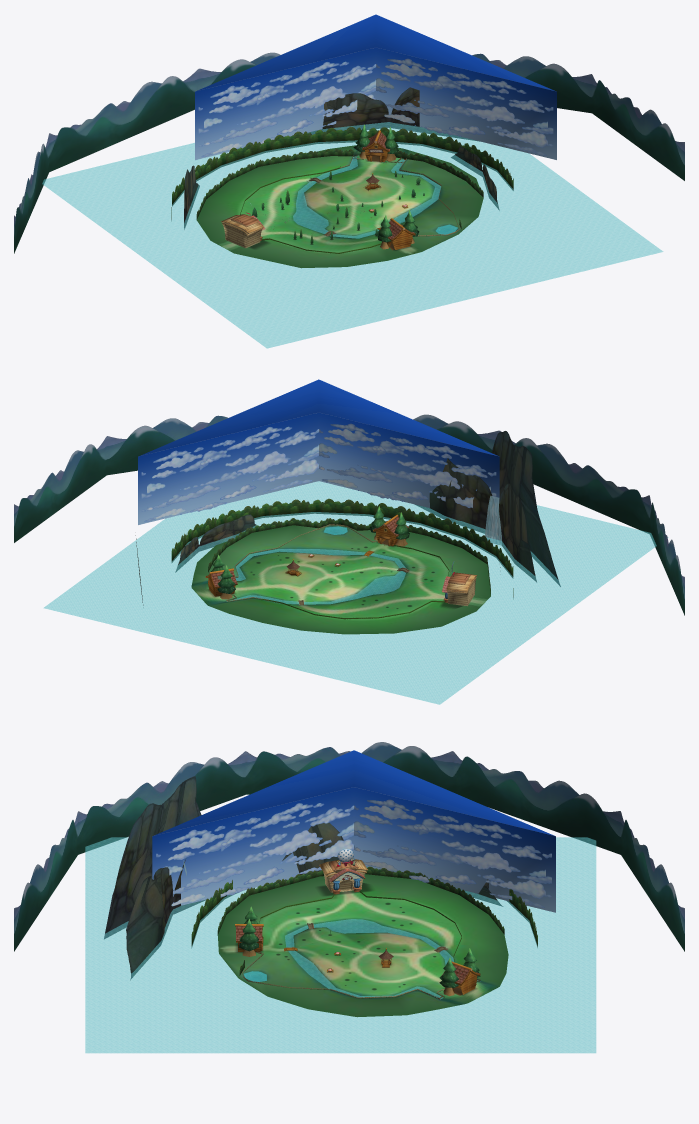
The model's file is acorn_acres.glb.
3 views of the same model, one above another, from view 1: azimuth 30°, elevation 25°; view 2: azimuth 150°, elevation 25°; view 3: azimuth 270°, elevation 25° (orthographic). The views are drawn at different scales.
Parts seen in each view (by area): view 1: water1, ground1, Sky, petridisn_hills, petridish2, o7_2, o6_2, backdrops1, o7_1, o6_1, petridish_1, backdrops8 (+2 smaller); view 2: water1, ground1, Sky, petridisn_hills, petridish2, backdrops7, o8_2, o3_2, backdrops5, o8_1, backdrops6, o3_1 (+3 smaller); view 3: water1, ground1, Sky, petridisn_hills, backdrops7, o5_2, o4_2, backdrops5, o5_1, o4_1, petridish_1, backdrops4 (+1 smaller).
Boxes of the visible parts, x1=… form: water1: x1=42, y1=122, x2=663, y2=348; ground1: x1=196, y1=145, x2=483, y2=268; Sky: x1=195, y1=14, x2=556, y2=159; petridisn_hills: x1=14, y1=52, x2=684, y2=253; petridish2: x1=171, y1=127, x2=513, y2=220; o7_2: x1=376, y1=64, x2=547, y2=147; o6_2: x1=204, y1=68, x2=375, y2=154; backdrops1: x1=302, y1=87, x2=476, y2=140; o7_1: x1=376, y1=58, x2=553, y2=155; o6_1: x1=198, y1=61, x2=375, y2=157; petridish_1: x1=196, y1=149, x2=483, y2=228; backdrops8: x1=451, y1=146, x2=499, y2=210; water1: x1=44, y1=481, x2=668, y2=704; ground1: x1=191, y1=525, x2=490, y2=634; Sky: x1=138, y1=379, x2=499, y2=524; petridisn_hills: x1=14, y1=414, x2=684, y2=615; petridish2: x1=171, y1=498, x2=513, y2=597; backdrops7: x1=491, y1=431, x2=560, y2=586; o8_2: x1=147, y1=433, x2=318, y2=519; o3_2: x1=319, y1=429, x2=490, y2=507; backdrops5: x1=415, y1=458, x2=496, y2=533; o8_1: x1=141, y1=426, x2=318, y2=522; backdrops6: x1=498, y1=483, x2=536, y2=582; o3_1: x1=319, y1=423, x2=496, y2=501; water1: x1=85, y1=837, x2=596, y2=1053; ground1: x1=218, y1=874, x2=508, y2=1017; Sky: x1=152, y1=750, x2=555, y2=912; petridisn_hills: x1=14, y1=742, x2=684, y2=951; backdrops7: x1=104, y1=776, x2=201, y2=938; o5_2: x1=354, y1=805, x2=545, y2=898; o4_2: x1=163, y1=810, x2=353, y2=906; backdrops5: x1=126, y1=867, x2=173, y2=980; o5_1: x1=354, y1=799, x2=551, y2=907; o4_1: x1=156, y1=803, x2=353, y2=904; petridish_1: x1=217, y1=866, x2=504, y2=975; backdrops4: x1=282, y1=822, x2=343, y2=879.
Size of the model in its own units: 1115 by 395 by 1004.
40 materials, 39 textured.
